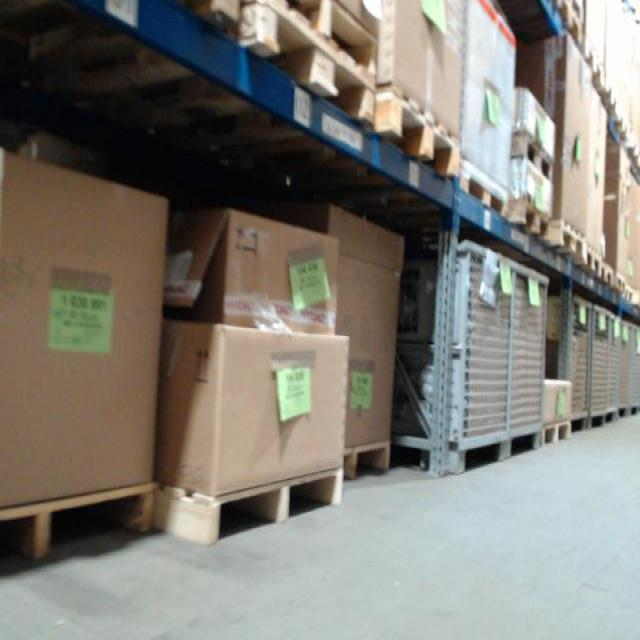pallet: (234, 0, 383, 120), (0, 478, 156, 589), (156, 463, 345, 552), (241, 0, 390, 90), (377, 79, 465, 183), (460, 157, 510, 217), (342, 437, 393, 493), (510, 127, 554, 187), (508, 197, 551, 243), (548, 219, 588, 264), (536, 418, 574, 449), (585, 240, 605, 282), (601, 258, 616, 291)
stillage: (396, 244, 506, 473), (500, 257, 549, 455), (537, 293, 592, 443), (594, 302, 610, 439), (619, 321, 633, 420), (610, 311, 621, 426), (631, 325, 639, 424)
